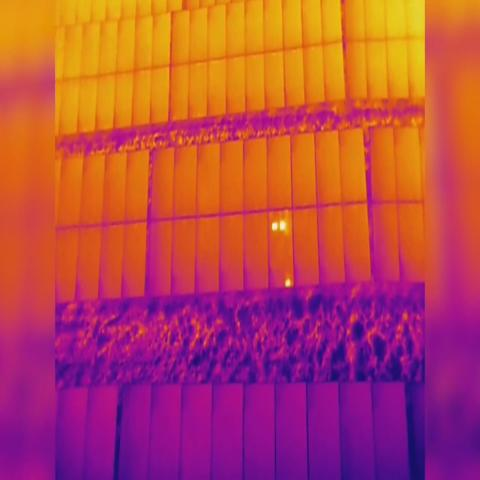fault: (269, 217, 279, 234), (284, 274, 292, 288), (279, 219, 287, 231)
